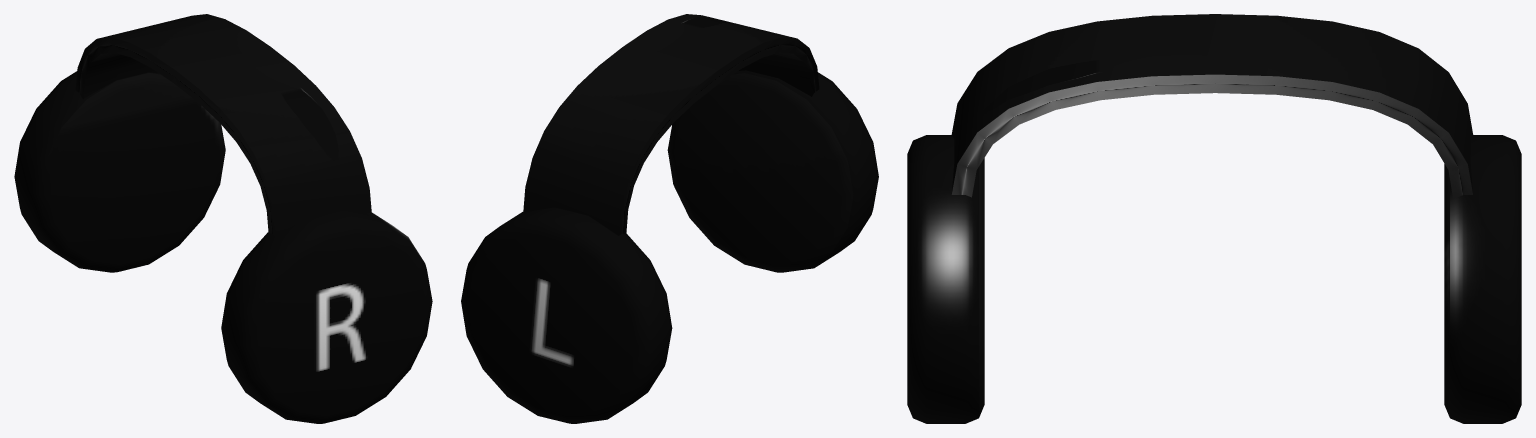
3 views of the same model, side by side, from view 1: azimuth 30°, elevation 25°; view 2: azimuth 150°, elevation 25°; view 3: azimuth 270°, elevation 25° (orthographic). The views are drawn at different scales.
Parts seen in each view (by area): view 1: 9; view 2: 9; view 3: 9.
Boxes of the visible parts, left/top/right/bottom form: 9: left=14, top=14, right=432, bottom=423; 9: left=461, top=14, right=878, bottom=423; 9: left=907, top=14, right=1521, bottom=423.
Bounding box in the file's own units: 0.7088 × 0.982 × 1.5.
Materials: 1 (1 with a texture image).
